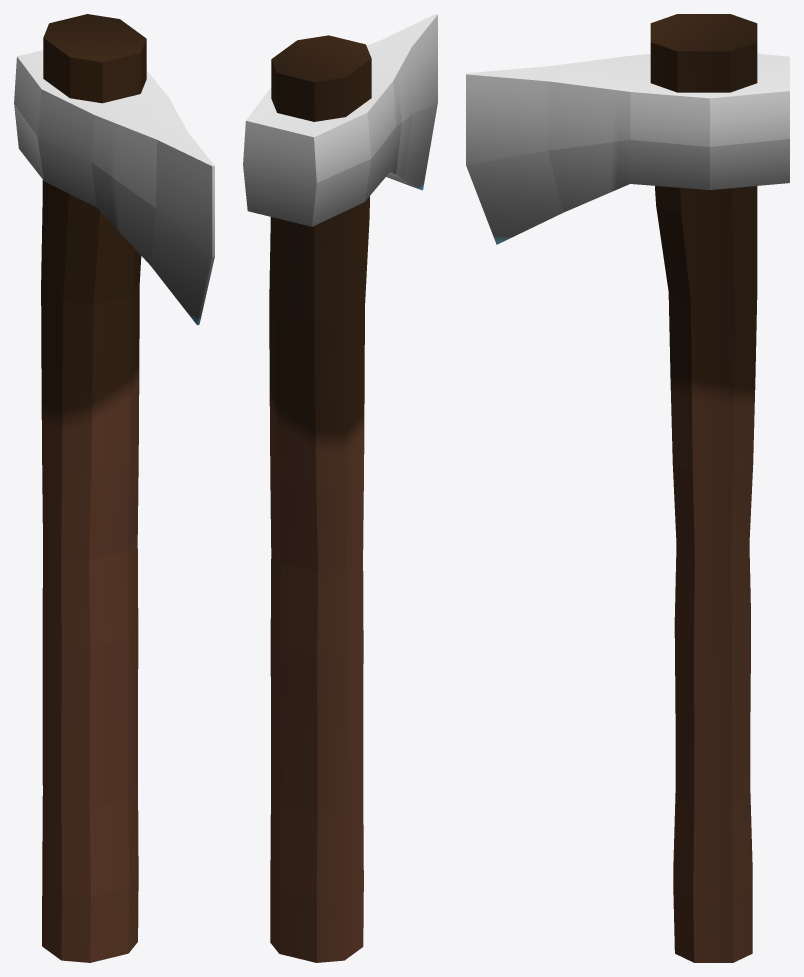
File: Tool_Axe_Normal_03.glb
3 views of the same model, side by side, from view 1: azimuth 30°, elevation 25°; view 2: azimuth 150°, elevation 25°; view 3: azimuth 270°, elevation 25° (orthographic). The views are drawn at different scales.
Visible parts, largest first — view 1: Cube, Cube.001; view 2: Cube, Cube.001; view 3: Cube, Cube.001.
Part boxes in pixels (box(x1,y1,x2,y2)): Cube: box(41, 14, 146, 962); Cube.001: box(14, 50, 214, 325); Cube: box(269, 35, 371, 962); Cube.001: box(243, 14, 437, 226); Cube: box(650, 14, 757, 962); Cube.001: box(466, 53, 789, 244).
Bounding box in the file's own units: 0.3987 × 3.18 × 1.02.
2 materials, 2 textured.
